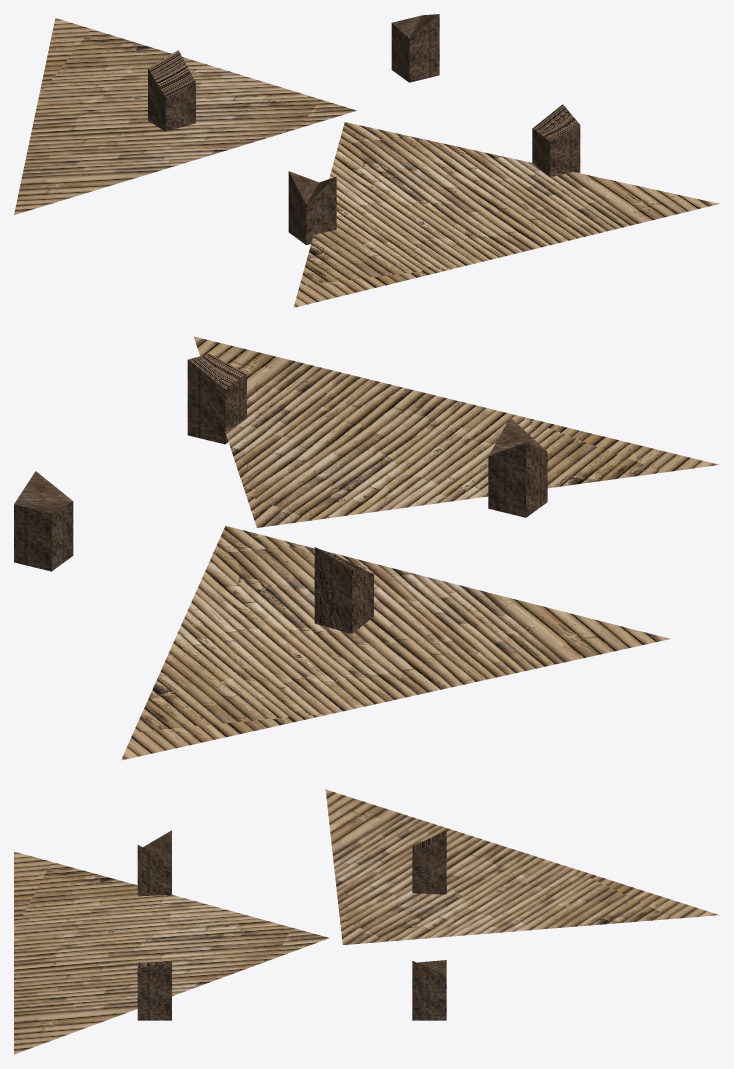
Rendered from tower_d1.FBX.
The picture shows the model from 3 angles, top to bottom: view 1: azimuth 30°, elevation 25°; view 2: azimuth 150°, elevation 25°; view 3: azimuth 270°, elevation 25°; orthographic projection. The views are drawn at different scales.
Parts seen in each view (by area): view 1: tower_d1; view 2: tower_d1; view 3: tower_d1.
Part boxes in pixels (x1,y1,x2,y2): tower_d1: [14, 14, 719, 307]; tower_d1: [14, 336, 719, 760]; tower_d1: [14, 789, 719, 1054].
Size of the model in its own units: 179 by 23.39 by 206.
